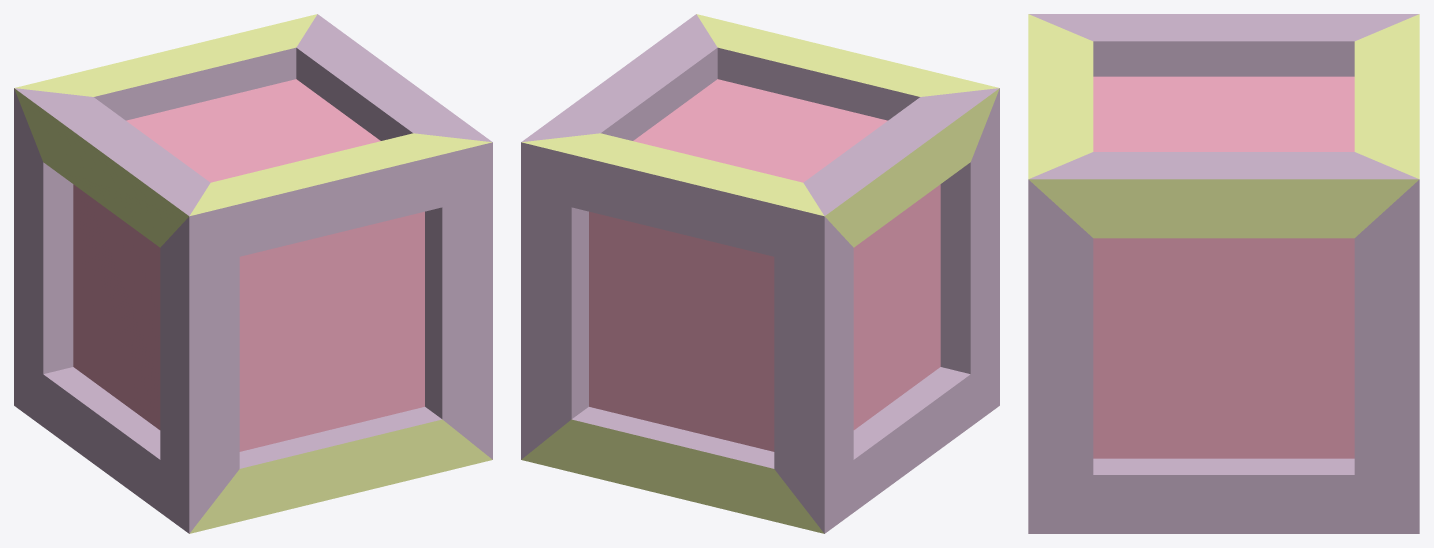
Rendered from niceBox.fbx.
3 views of the same model, side by side, from view 1: azimuth 30°, elevation 25°; view 2: azimuth 150°, elevation 25°; view 3: azimuth 270°, elevation 25° (orthographic). The views are drawn at different scales.
Parts seen in each view (by area): view 1: Cube; view 2: Cube; view 3: Cube.
Boxes of the visible parts, left/top/right/bottom form: Cube: left=14, top=14, right=492, bottom=533; Cube: left=521, top=14, right=999, bottom=533; Cube: left=1028, top=14, right=1419, bottom=533.
Size of the model in its own units: 200 by 200 by 200.
1 material, 1 textured.
